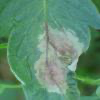Tomato leaf late blight: (0, 1, 98, 99)
